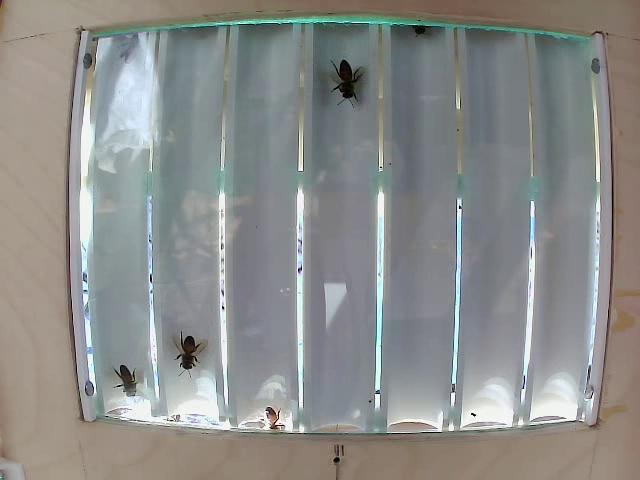bee: (169, 319, 219, 379), (321, 57, 366, 108), (113, 360, 156, 398)
